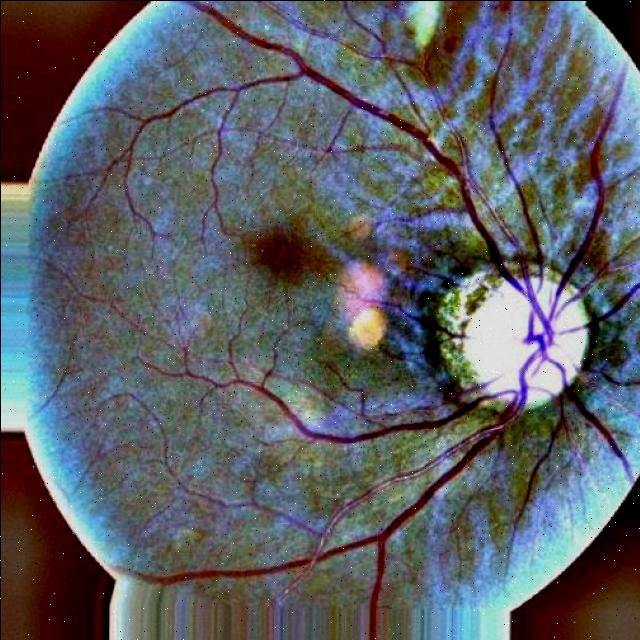Macula: (241, 224, 333, 284)
Nerves: (295, 64, 564, 405), (169, 409, 520, 633), (542, 67, 618, 310), (248, 386, 472, 447), (535, 339, 628, 471), (488, 118, 539, 260)
Optic Disk: (446, 259, 592, 415)
